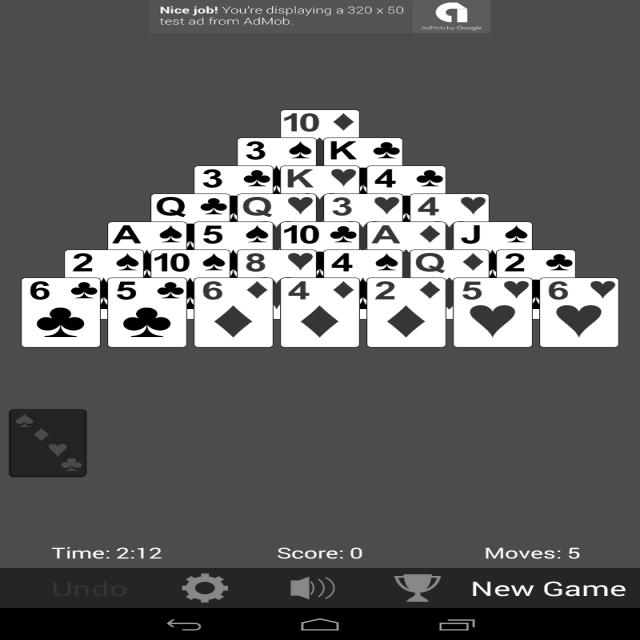ImageButton: (390, 567, 442, 605), (278, 572, 344, 600), (182, 573, 237, 605)
ImageView: (15, 104, 628, 348), (414, 1, 494, 35)
TextView: (148, 2, 408, 28), (464, 575, 627, 601), (272, 541, 382, 563), (482, 539, 585, 561), (47, 543, 178, 559), (49, 576, 138, 596)
